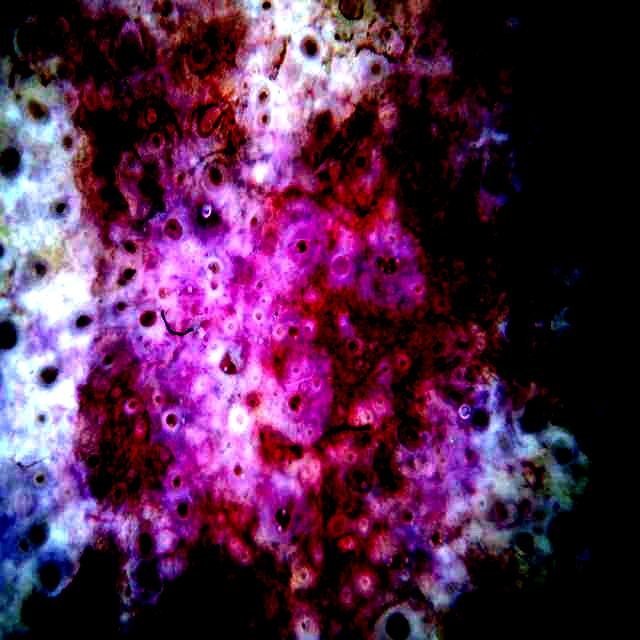AKIEC: (76, 9, 596, 638)
